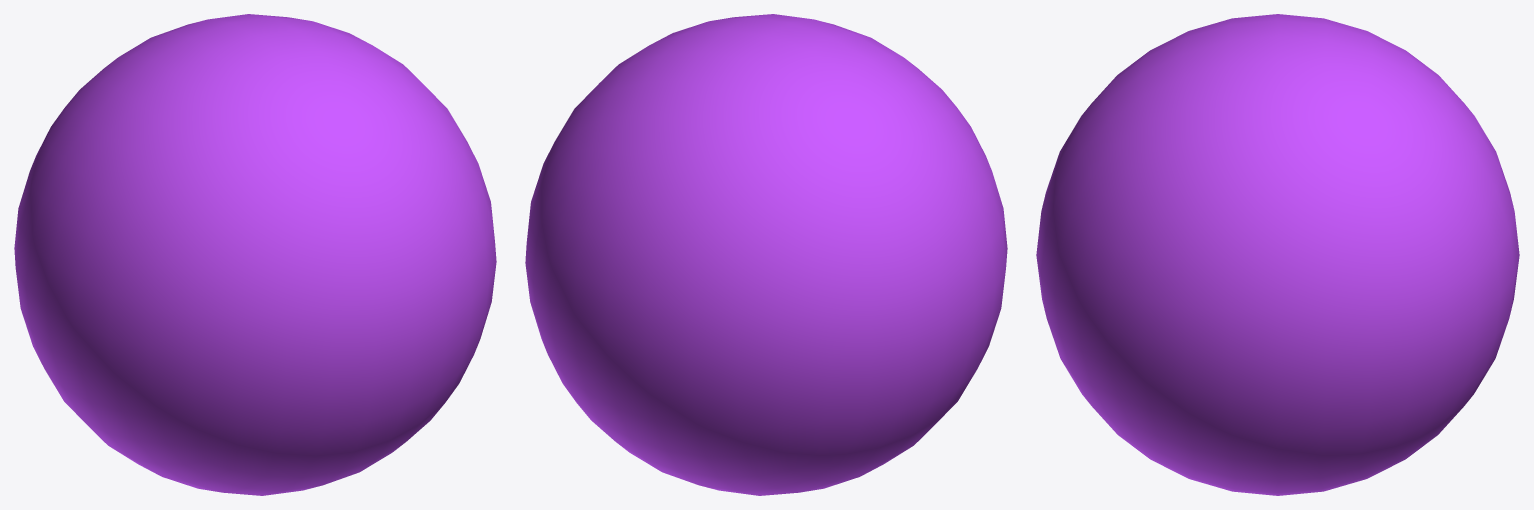
File: ShardContainer.fbx
The picture shows the model from 3 angles, left to right: view 1: azimuth 30°, elevation 25°; view 2: azimuth 150°, elevation 25°; view 3: azimuth 270°, elevation 25°; orthographic projection.
Parts seen in each view (by area): view 1: ShardContainer; view 2: ShardContainer; view 3: ShardContainer.
Part boxes in pixels (bbox=[...]): ShardContainer: bbox=[14, 14, 496, 495]; ShardContainer: bbox=[525, 14, 1007, 495]; ShardContainer: bbox=[1036, 14, 1519, 495].
Size of the model in its own units: 100 by 100 by 100.
